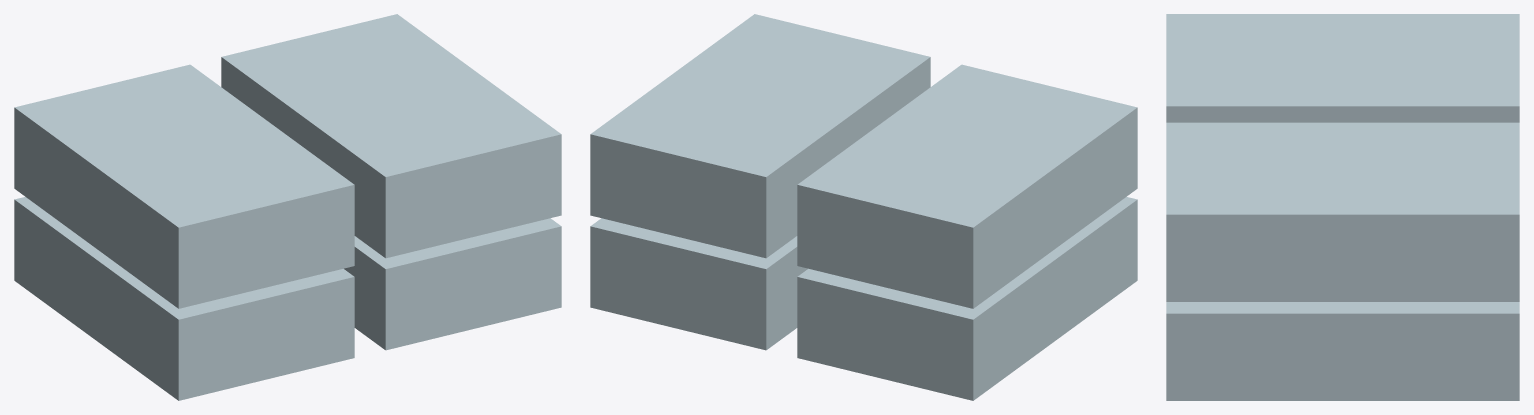
File: supply-steel.glb
3 renders of one model, left to right at view 1: azimuth 30°, elevation 25°; view 2: azimuth 150°, elevation 25°; view 3: azimuth 270°, elevation 25°, orthographic. The views are drawn at different scales.
Visible parts, largest first — view 1: unit2, unit3, unit0, unit1; view 2: unit2, unit3, unit0, unit1; view 3: unit3, unit2, unit1.
Part boxes in pixels (bbox=[...]): unit2: bbox=[14, 64, 354, 308]; unit3: bbox=[221, 14, 561, 258]; unit0: bbox=[14, 197, 354, 400]; unit1: bbox=[344, 218, 561, 350]; unit2: bbox=[797, 64, 1137, 308]; unit3: bbox=[590, 14, 930, 258]; unit0: bbox=[797, 197, 1137, 400]; unit1: bbox=[590, 218, 807, 350]; unit3: bbox=[1166, 122, 1519, 301]; unit2: bbox=[1166, 14, 1519, 122]; unit1: bbox=[1166, 302, 1519, 400].
Size of the model in its own units: 0.74 by 0.32 by 0.55.
